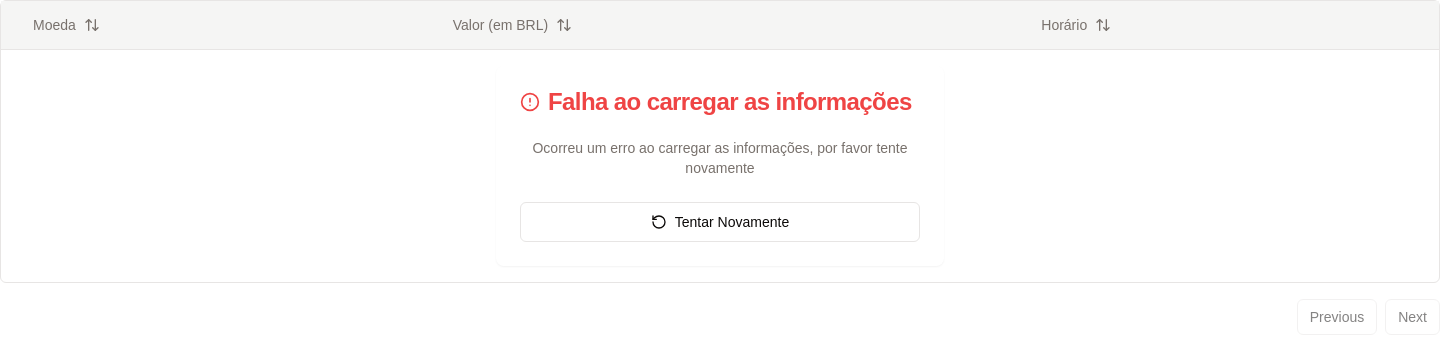
it: Currency table tests when error › should try to load data clicking on error retry button
Check: the element with test id "load-table-error" is shown, box left=496, top=66, right=944, bottom=266
What coordinates should you click on to do the following:
click the button "Tentar Novamente"
I would click on:
 (720, 222)
Its box is left=520, top=202, right=920, bottom=242.
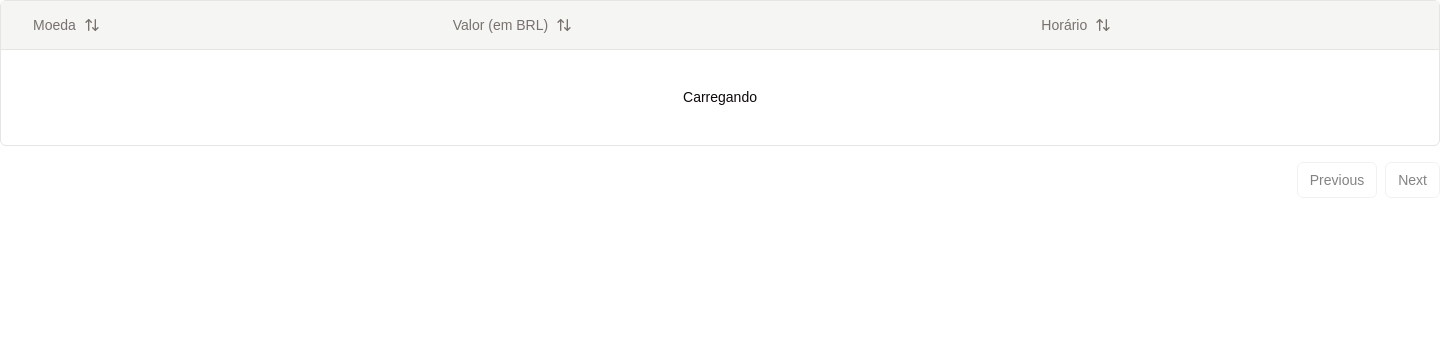
Check: the cell with test id "loading-table" is shown, box left=1, top=49, right=1439, bottom=145
